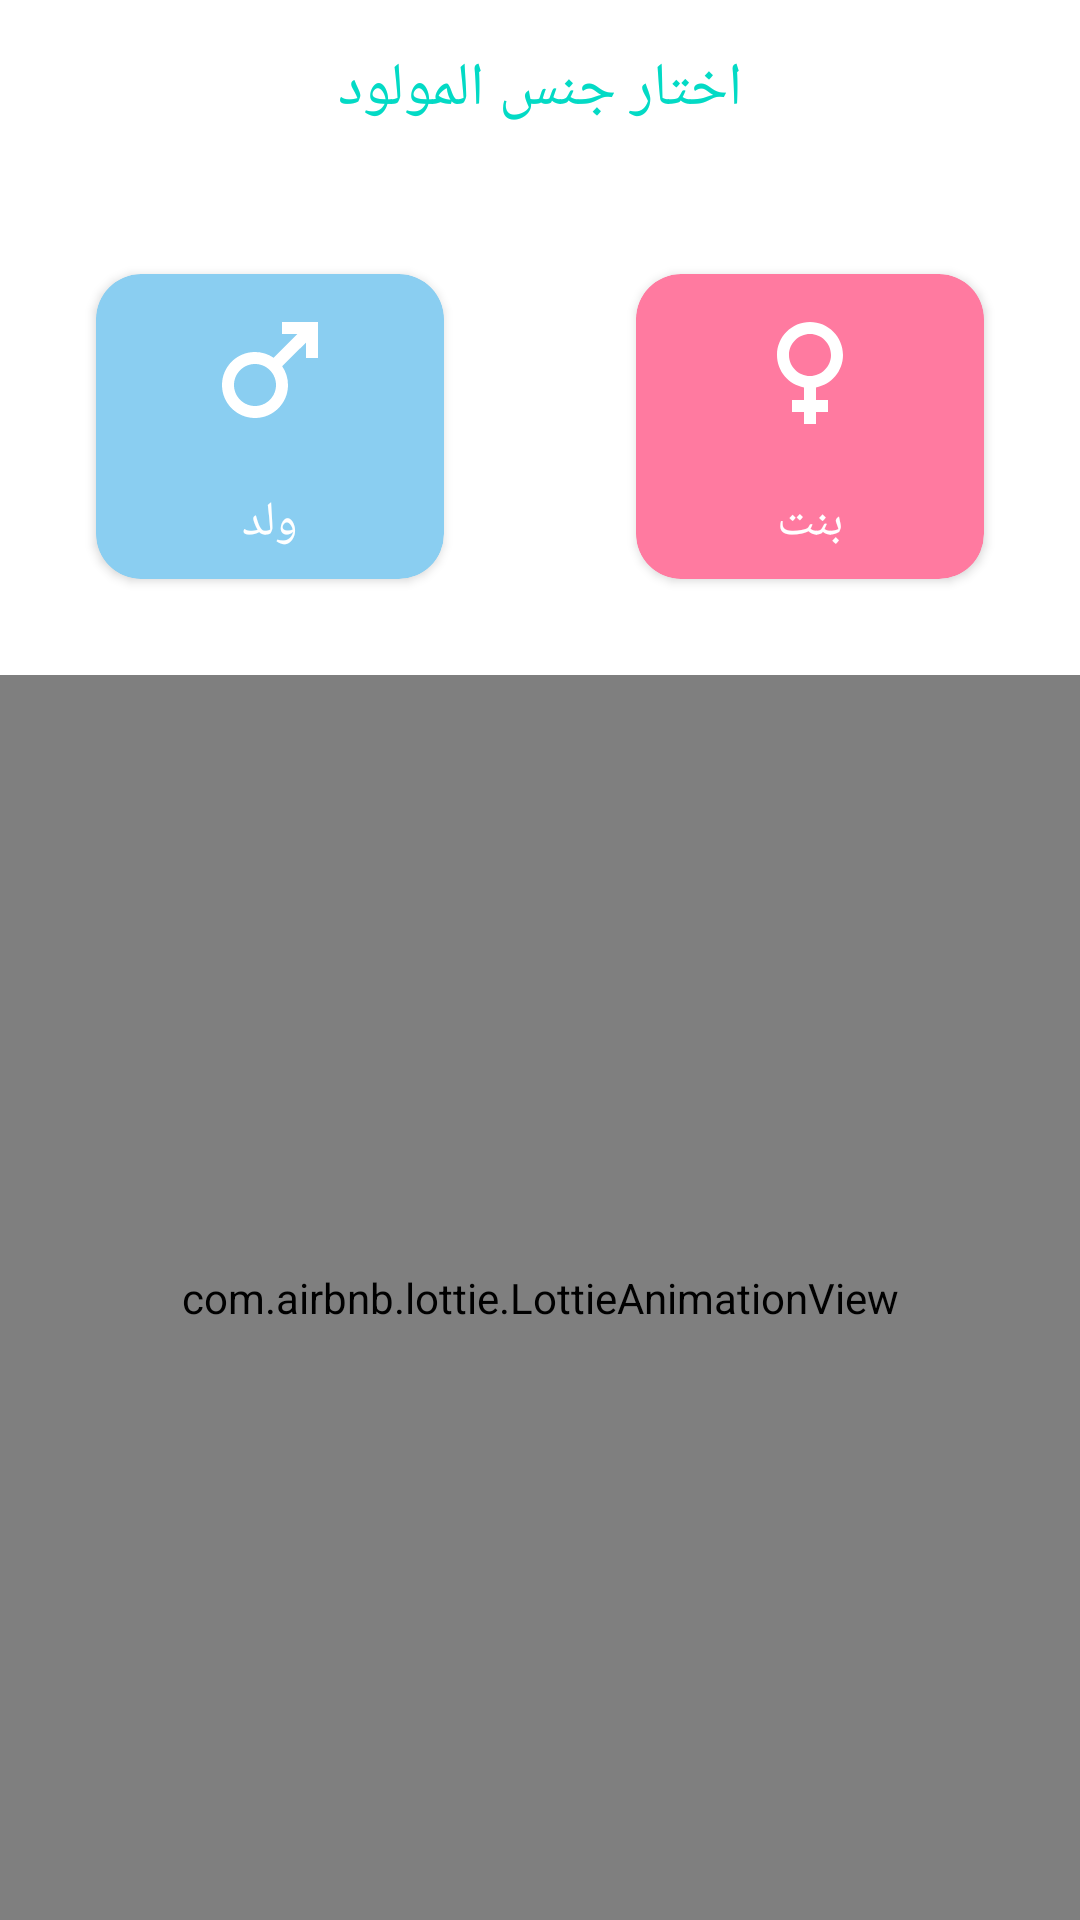

Where to tap for icons on this 1080 × 1920 app screen, as point (x, y):
female: point (810, 373)
male: point (270, 370)
